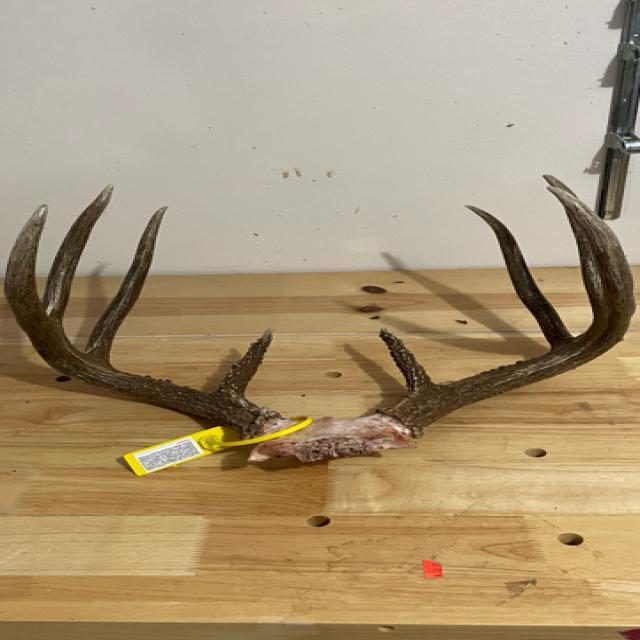L-F: (374, 186, 639, 439)
L-G1: (376, 326, 437, 398)
L-G2: (463, 203, 576, 353)
R-F: (3, 203, 285, 440)
R-G1: (212, 327, 273, 404)
R-G2: (83, 204, 171, 370)
R-G3: (42, 183, 115, 329)
